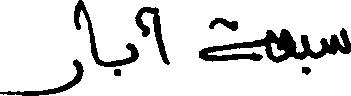X: (0, 0, 80, 95), (201, 13, 270, 66), (83, 0, 98, 76), (152, 2, 167, 69), (323, 23, 350, 60), (277, 24, 294, 67), (127, 8, 137, 68), (302, 30, 308, 79)
